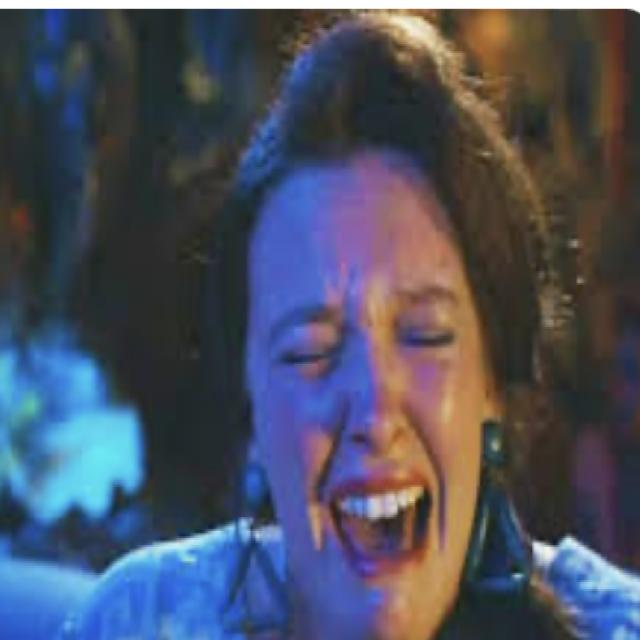sad: (241, 70, 494, 640)
